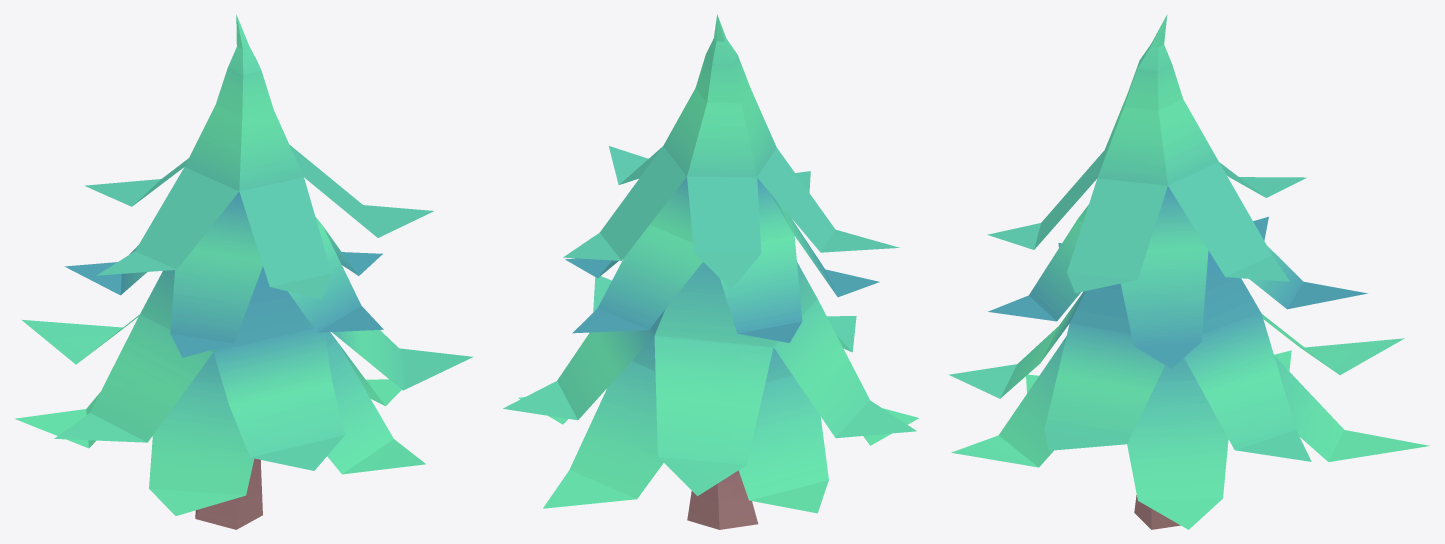
Rendered from pine_tree.glb.
3 renders of one model, left to right at view 1: azimuth 30°, elevation 25°; view 2: azimuth 150°, elevation 25°; view 3: azimuth 270°, elevation 25°, orthographic.
Visible parts, largest first — view 1: Spruce; view 2: Spruce; view 3: Spruce.
Part boxes in pixels (x1,y1,x2,y2): Spruce: [14, 14, 472, 529]; Spruce: [503, 14, 918, 529]; Spruce: [949, 14, 1429, 529].
Size of the model in its own units: 3.67 by 4.65 by 4.01.
Materials: 1 (1 with a texture image).
